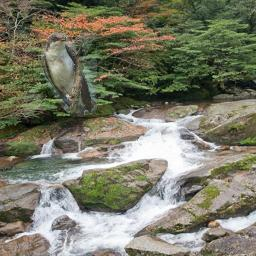Swallow: (41, 33, 97, 118)
